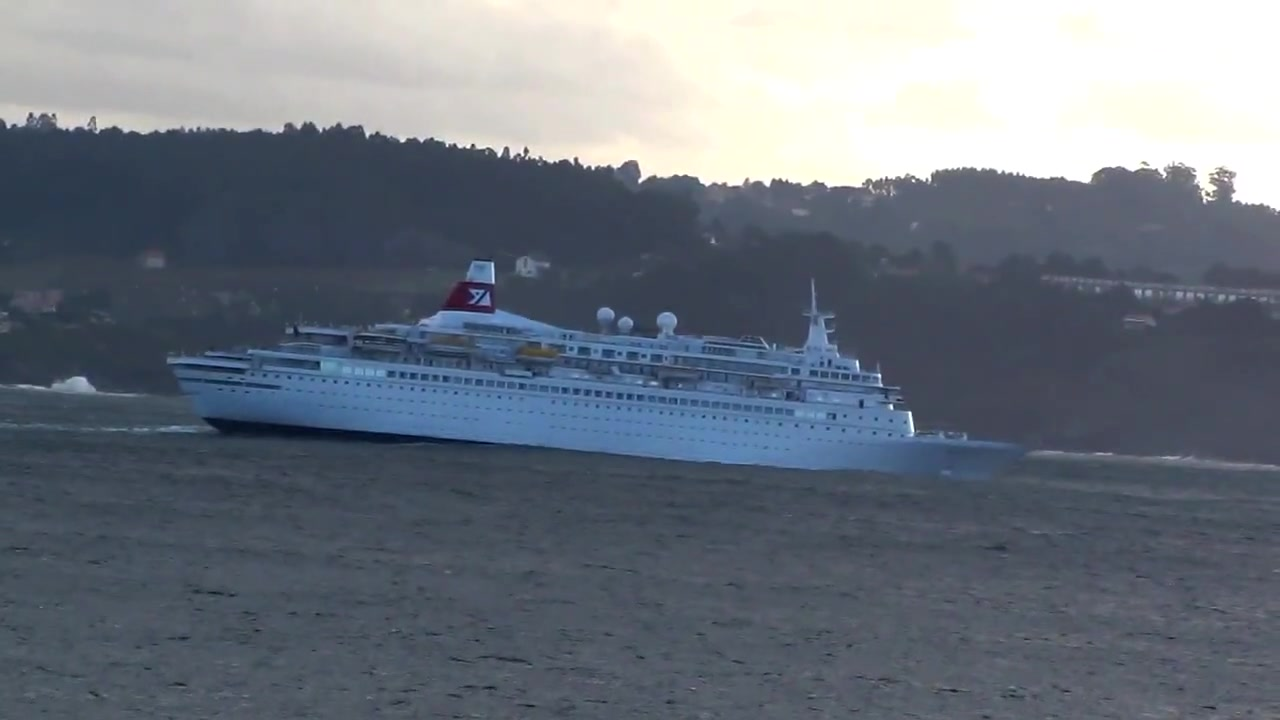boat: (169, 255, 1034, 485)
